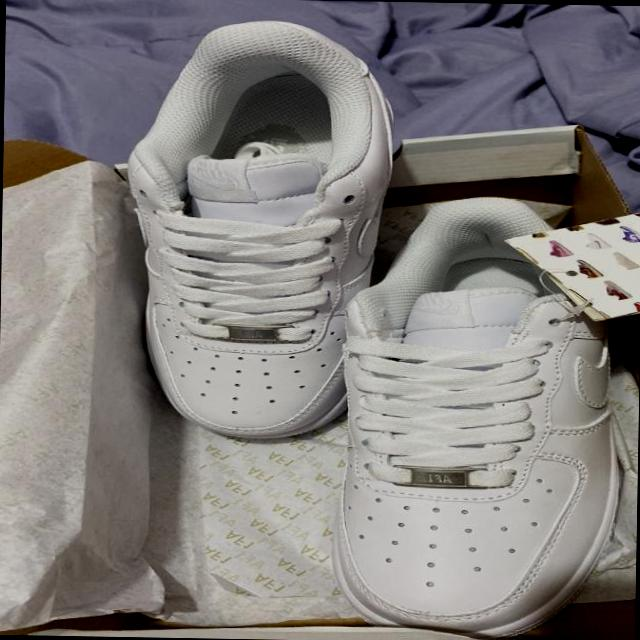nike_original_airforce: (326, 191, 637, 640), (114, 12, 406, 448)
